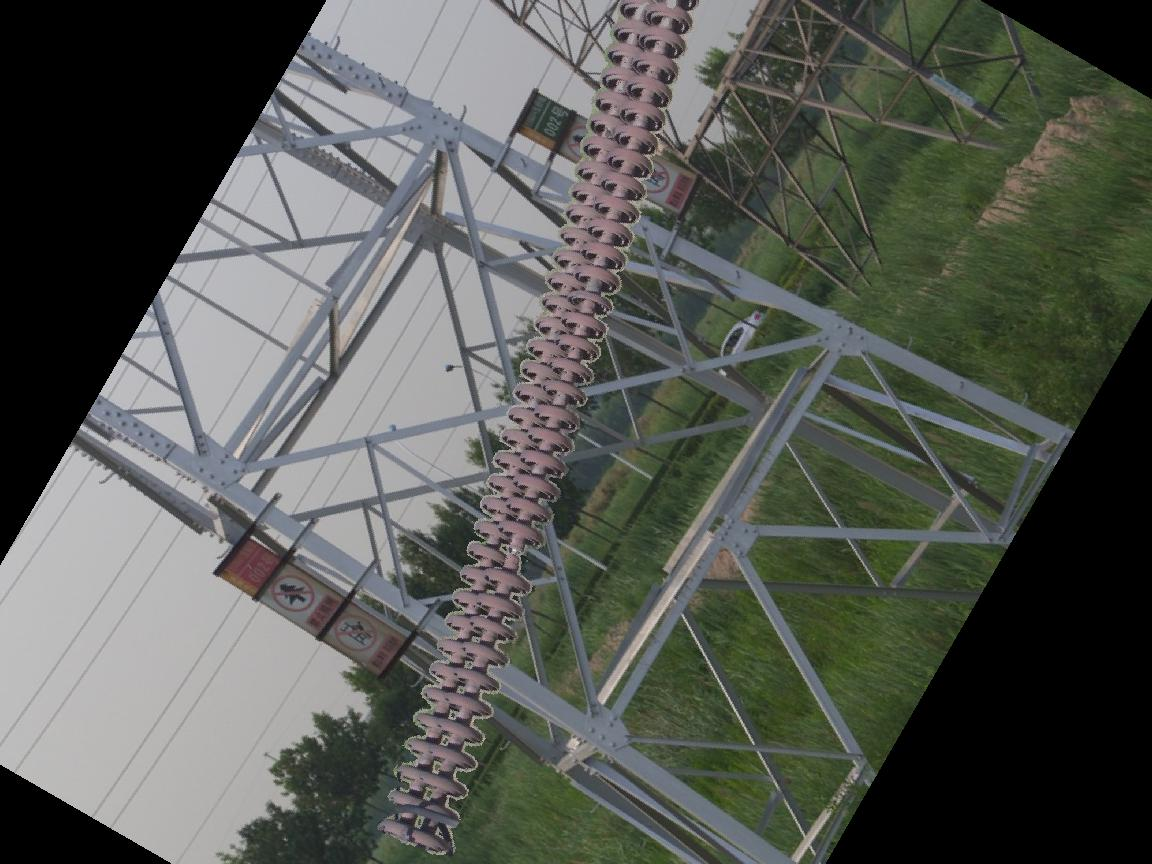insulator: (377, 1, 698, 857)
insulator_stringdrop: (481, 514, 545, 592)
